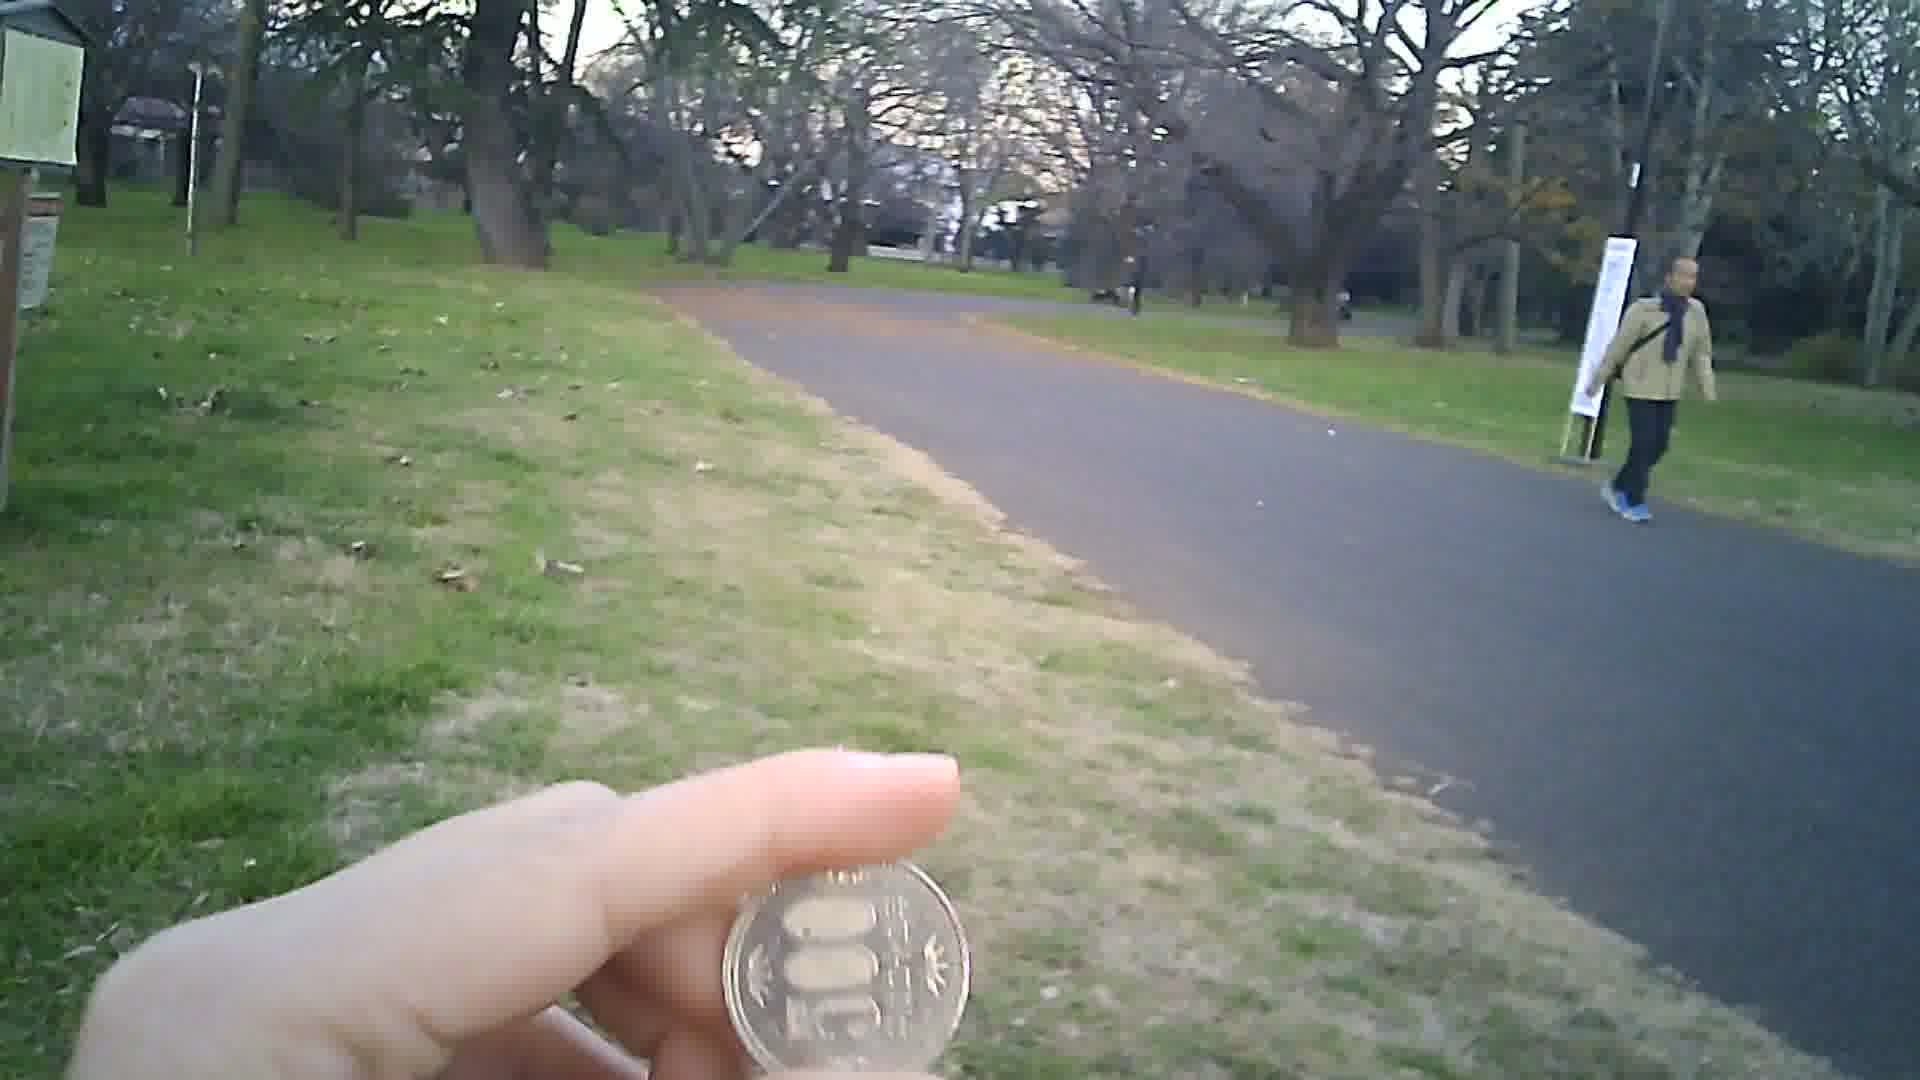500 Yen: (716, 831, 971, 1079)
